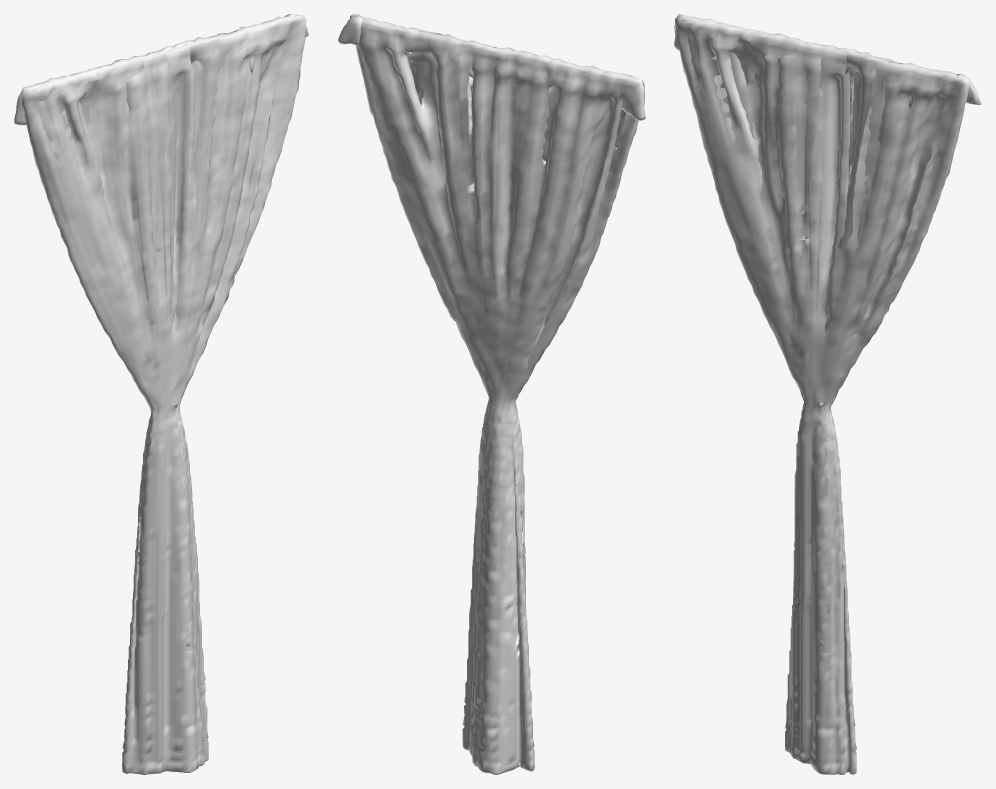
The model's file is Tent_Leg_Drape_0616023008_texture.glb.
3 renders of one model, left to right at view 1: azimuth 30°, elevation 25°; view 2: azimuth 150°, elevation 25°; view 3: azimuth 330°, elevation 25°, orthographic.
Visible parts, largest first — view 1: Mesh_0; view 2: Mesh_0; view 3: Mesh_0.
Part boxes in pixels (left/top/right/bottom): Mesh_0: left=14, top=14, right=308, bottom=774; Mesh_0: left=337, top=14, right=645, bottom=774; Mesh_0: left=674, top=14, right=981, bottom=774.
Bounding box in the file's own units: 1.07 × 2.44 × 0.1953.
Materials: 1 (1 with a texture image).
